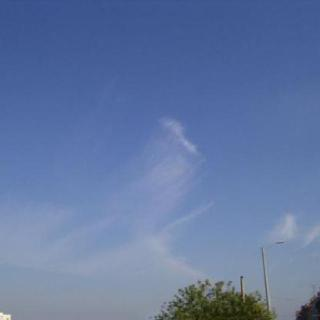Cirrocumulus: (0, 106, 320, 303)
